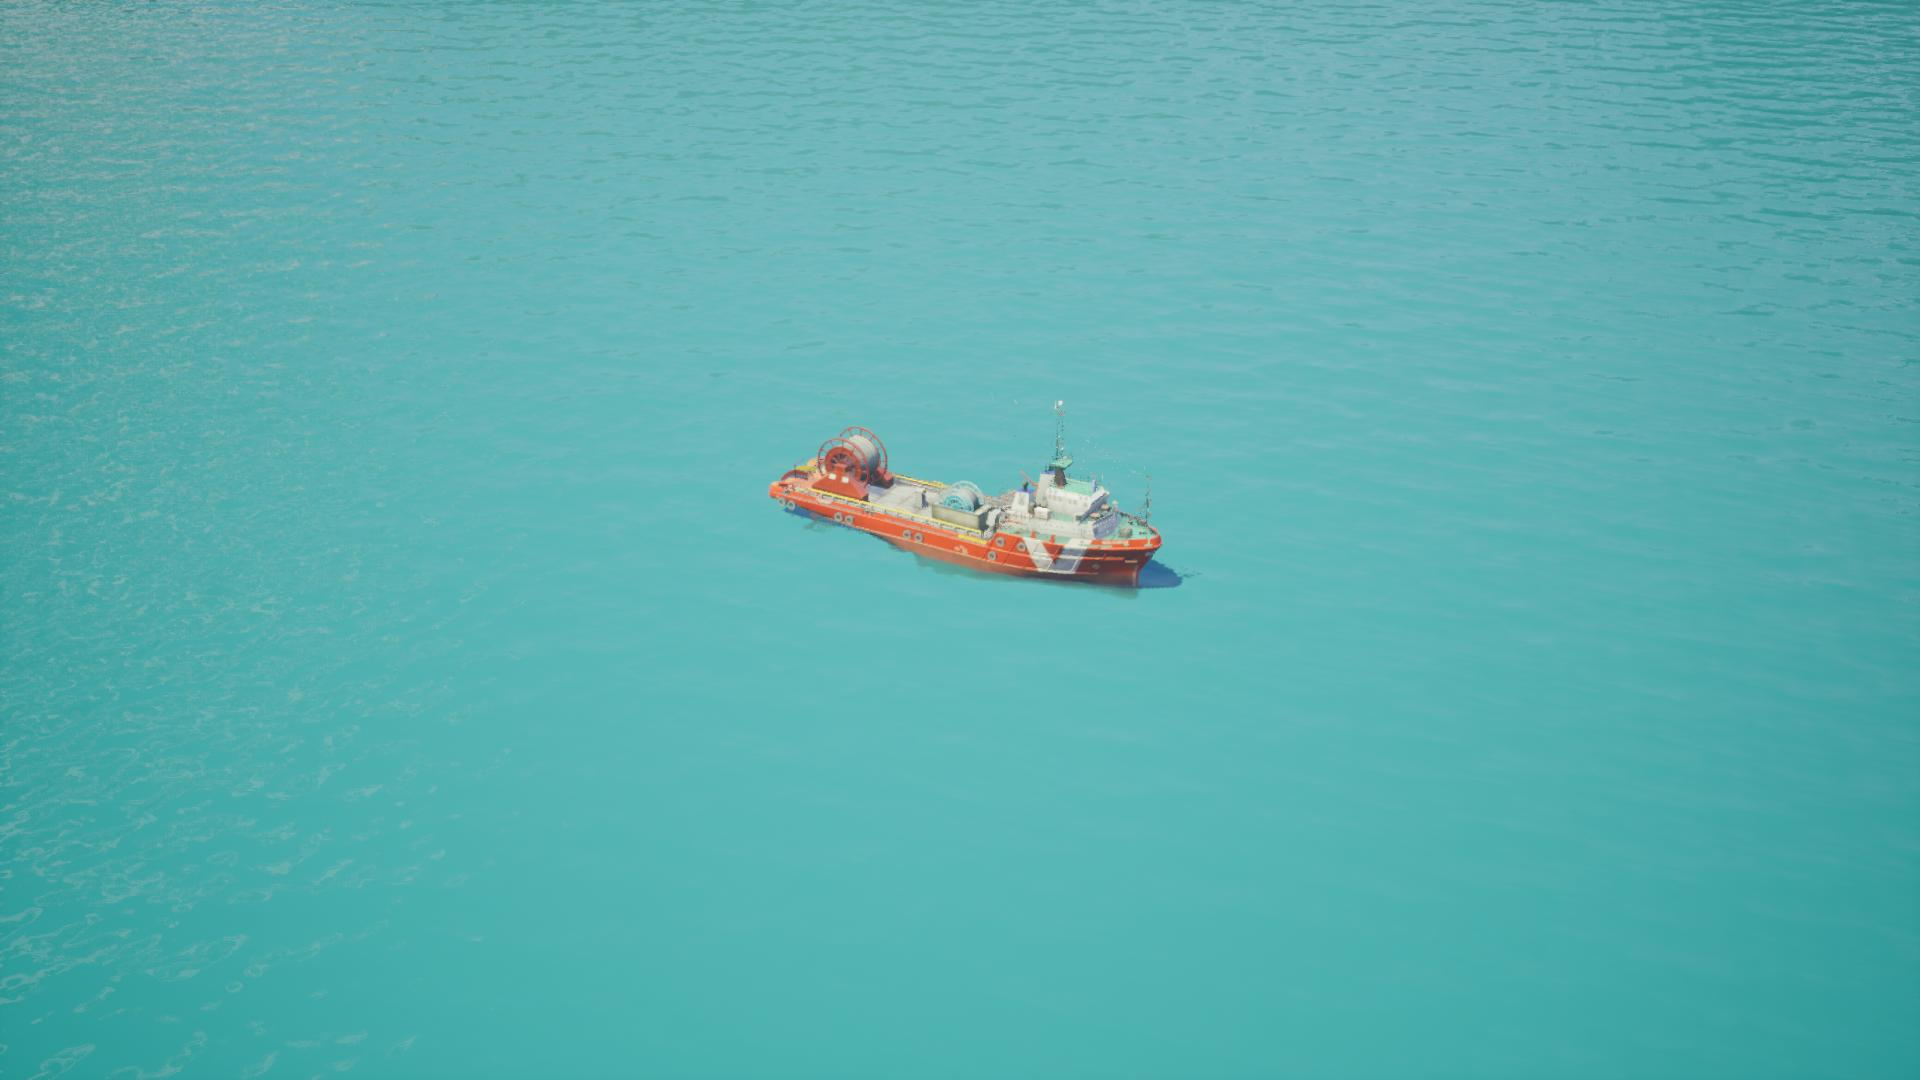Tug Boat: (791, 372, 1199, 638)
